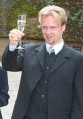male: (30, 4, 70, 45)
